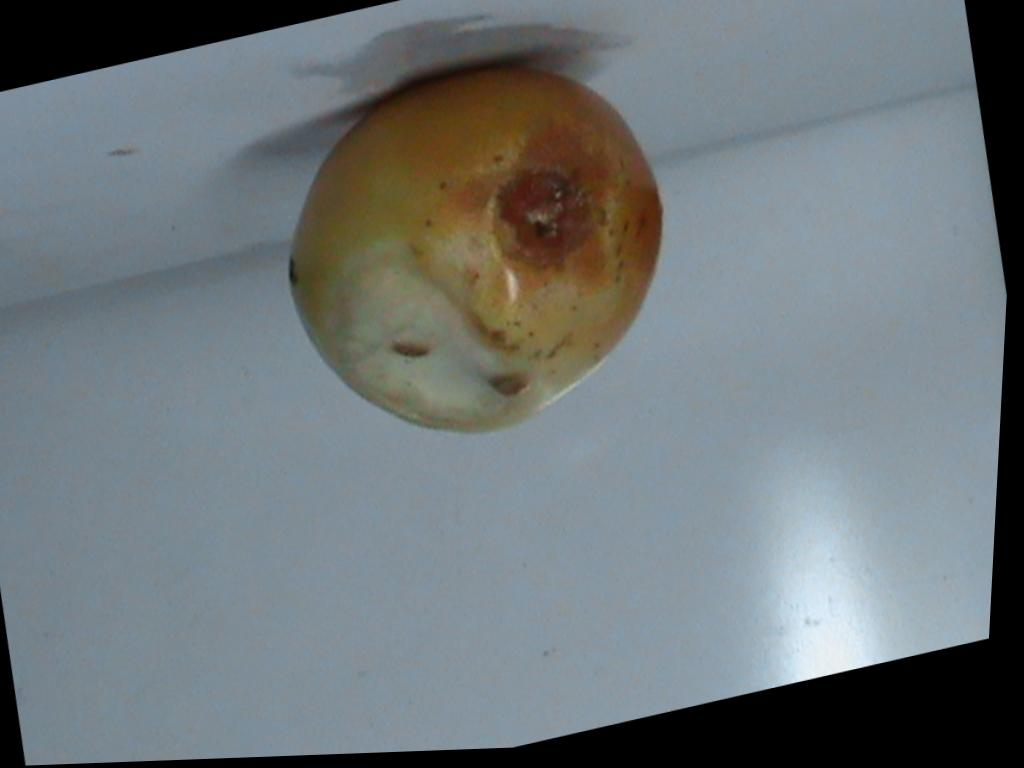bruise_discoloration: (320, 263, 588, 433), (221, 381, 512, 453)
rot_mold_decay: (483, 373, 529, 397), (392, 341, 430, 359)
tomato: (290, 69, 660, 432)
